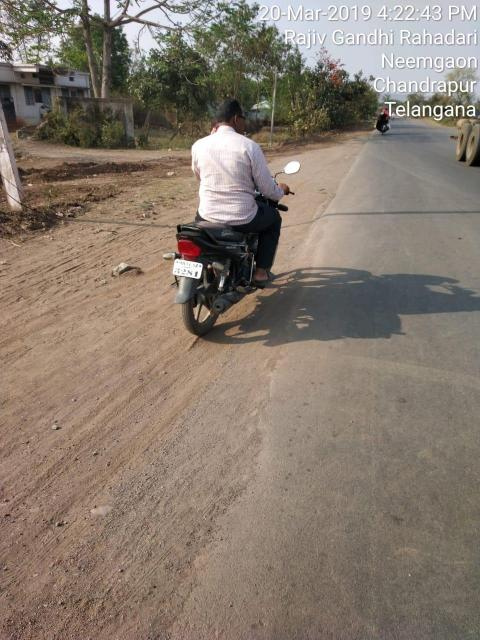motor: (162, 160, 303, 342)
non-helm: (216, 97, 249, 136)
